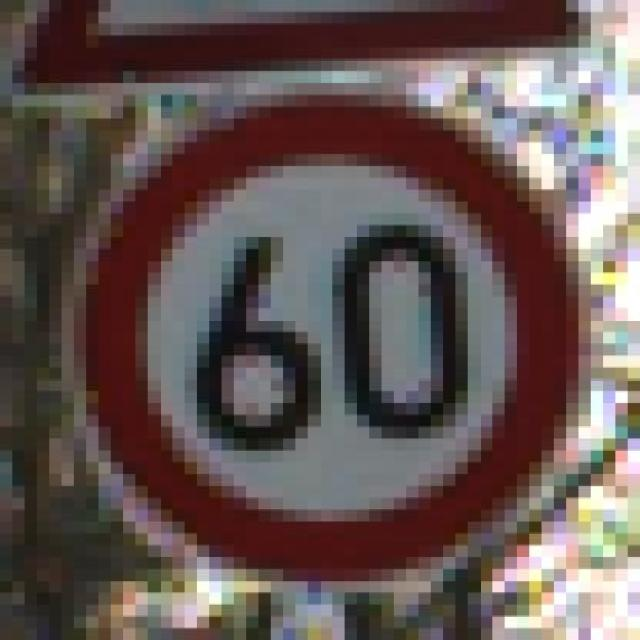forb_speed_over_60: (91, 96, 575, 573)
